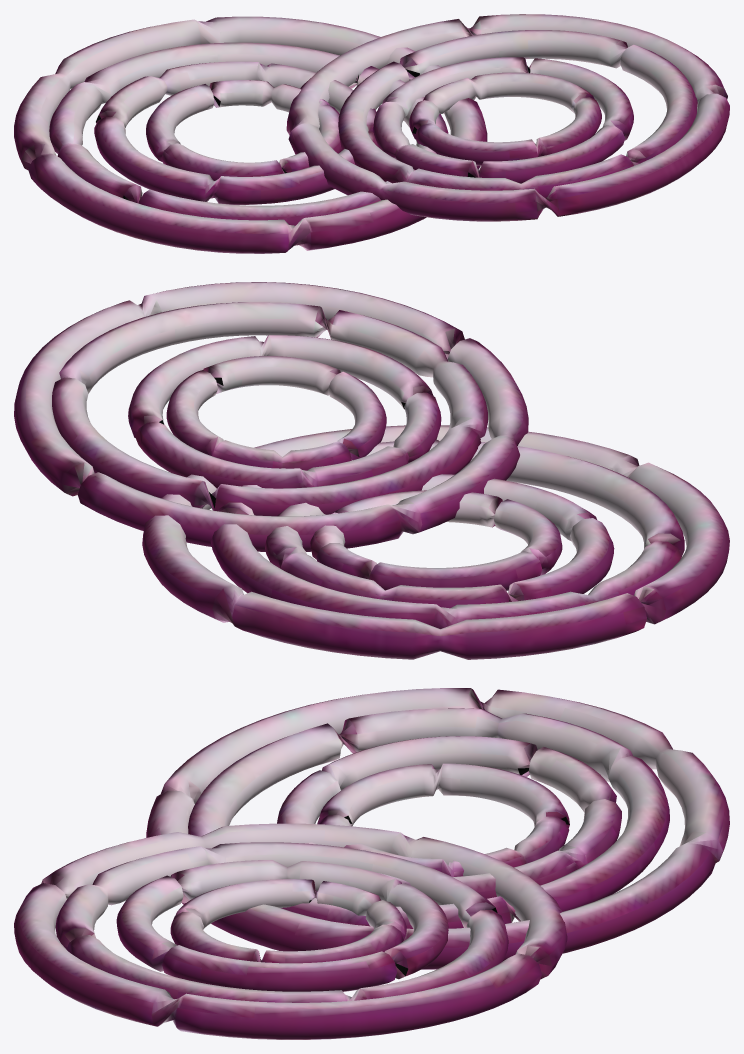
The model's file is veg_onion.glb.
3 renders of one model, top to bottom at view 1: azimuth 30°, elevation 25°; view 2: azimuth 150°, elevation 25°; view 3: azimuth 270°, elevation 25°, orthographic. The views are drawn at different scales.
Visible parts, largest first — view 1: EX_veg_onion_joined; view 2: EX_veg_onion_joined; view 3: EX_veg_onion_joined.
Part boxes in pixels (x1,y1,x2,y2): EX_veg_onion_joined: (14,14,729,253); EX_veg_onion_joined: (14,282,729,659); EX_veg_onion_joined: (14,688,729,1039).
Size of the model in its own units: 0.0785 by 0.00798 by 0.0664.
1 material, 1 textured.
